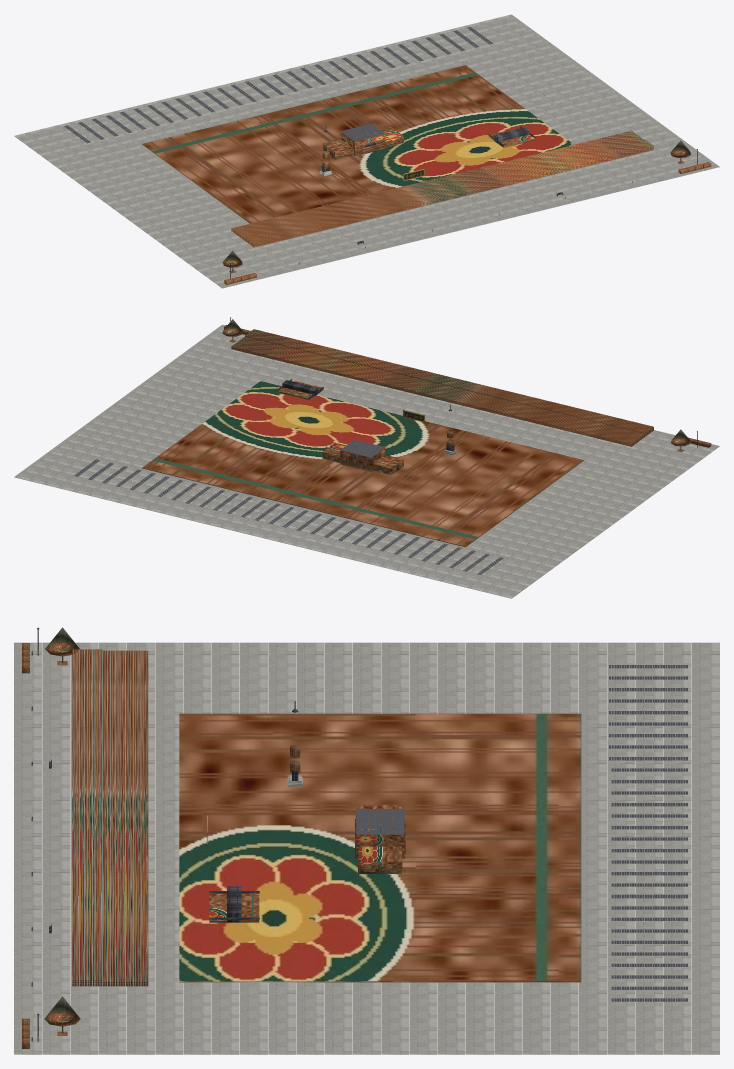
3 renders of one model, top to bottom at view 1: azimuth 30°, elevation 25°; view 2: azimuth 150°, elevation 25°; view 3: azimuth 270°, elevation 25°, orthographic. The views are drawn at different scales.
Parts seen in each view (by area): view 1: 11710_01_05545_007_01__plinth_ground_base, 11710_01_05545_007_02__mass_body_facade, 11710_01_05545_007_03__roof_deck_structure, 11710_01_05545_007_06__landscape_greenery; view 2: 11710_01_05545_007_01__plinth_ground_base, 11710_01_05545_007_02__mass_body_facade, 11710_01_05545_007_03__roof_deck_structure, 11710_01_05545_007_06__landscape_greenery; view 3: 11710_01_05545_007_01__plinth_ground_base, 11710_01_05545_007_02__mass_body_facade, 11710_01_05545_007_03__roof_deck_structure, 11710_01_05545_007_06__landscape_greenery, 11710_01_05545_007_03__roof_metal_ornament.
Boxes of the visible parts, x1=… form: 11710_01_05545_007_01__plinth_ground_base: x1=14, y1=14, x2=719, y2=288; 11710_01_05545_007_02__mass_body_facade: x1=142, y1=65, x2=653, y2=247; 11710_01_05545_007_03__roof_deck_structure: x1=64, y1=27, x2=492, y2=143; 11710_01_05545_007_06__landscape_greenery: x1=222, y1=140, x2=711, y2=284; 11710_01_05545_007_01__plinth_ground_base: x1=14, y1=324, x2=719, y2=598; 11710_01_05545_007_02__mass_body_facade: x1=142, y1=329, x2=653, y2=547; 11710_01_05545_007_03__roof_deck_structure: x1=74, y1=440, x2=503, y2=574; 11710_01_05545_007_06__landscape_greenery: x1=222, y1=319, x2=711, y2=452; 11710_01_05545_007_01__plinth_ground_base: x1=14, y1=642, x2=719, y2=1054; 11710_01_05545_007_02__mass_body_facade: x1=72, y1=649, x2=581, y2=986; 11710_01_05545_007_03__roof_deck_structure: x1=356, y1=665, x2=687, y2=1001; 11710_01_05545_007_06__landscape_greenery: x1=22, y1=627, x2=80, y2=1048; 11710_01_05545_007_03__roof_metal_ornament: x1=209, y1=701, x2=298, y2=922.
Bounding box in the file's own units: 160 × 17.4 × 116.
Materials: 7 (7 with a texture image).
